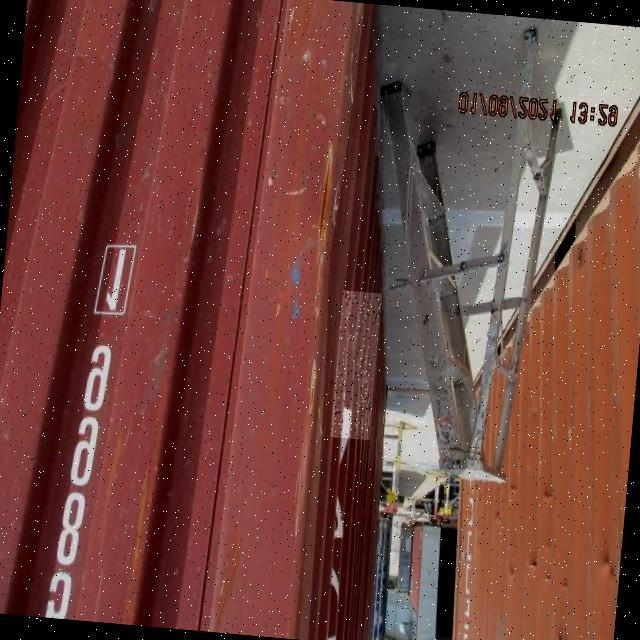Minor-Dent: (330, 290, 382, 440)
